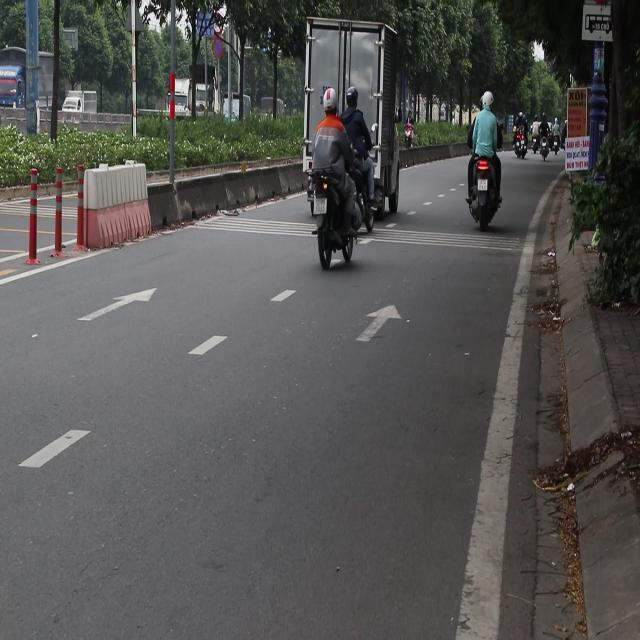motorbike: (308, 159, 364, 272), (349, 143, 387, 232), (467, 153, 504, 230), (404, 131, 418, 160), (513, 131, 527, 159), (536, 133, 551, 159)
truck: (303, 16, 397, 206), (0, 48, 57, 112), (62, 91, 97, 113), (253, 95, 286, 118)
